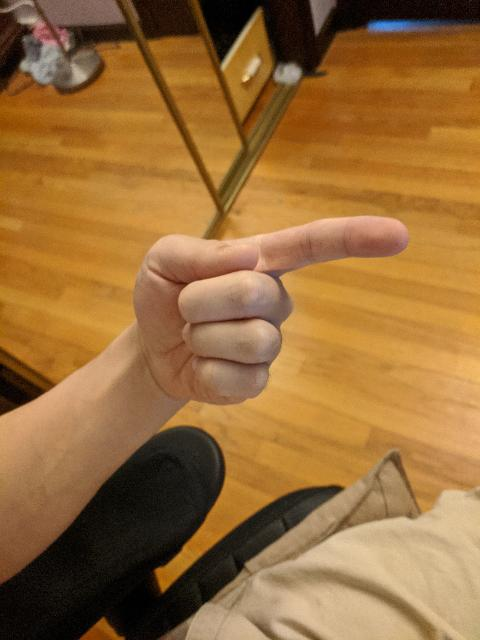G: (130, 210, 418, 410)
